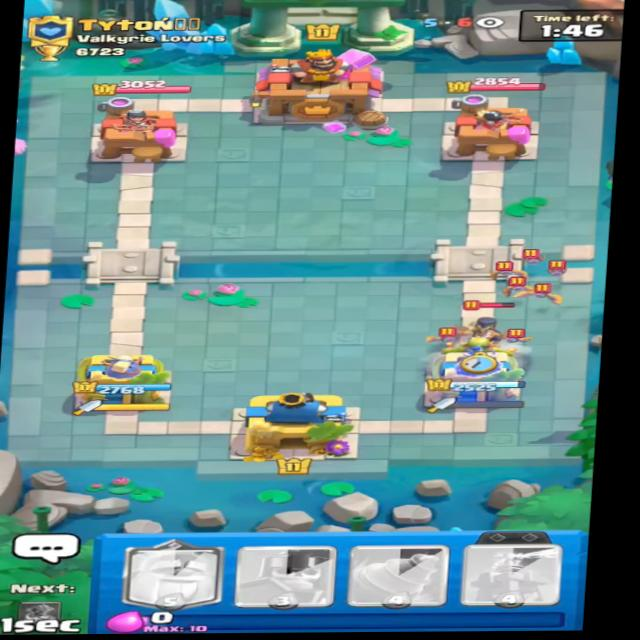bats: (521, 281, 570, 303), (513, 247, 553, 269), (480, 263, 522, 283), (541, 256, 577, 277), (496, 326, 536, 344), (503, 277, 541, 295), (430, 323, 462, 344)
night-witch: (455, 291, 521, 349)
